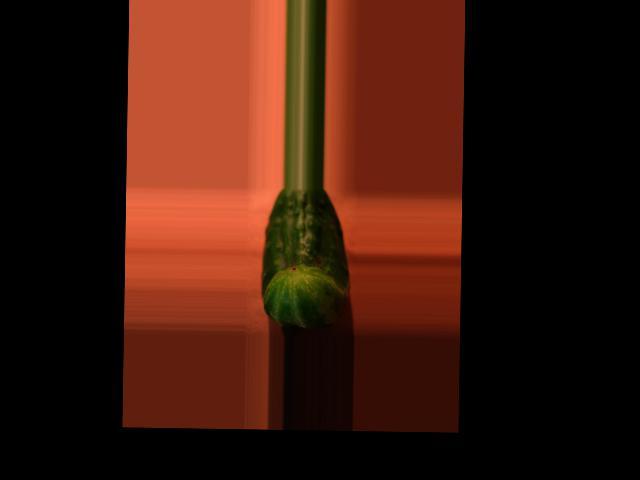cucumber: (260, 187, 350, 328)
